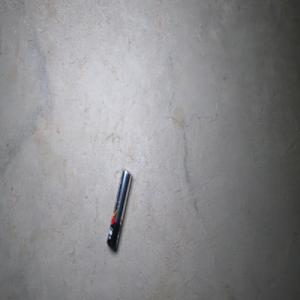Battery: (106, 167, 132, 250)
